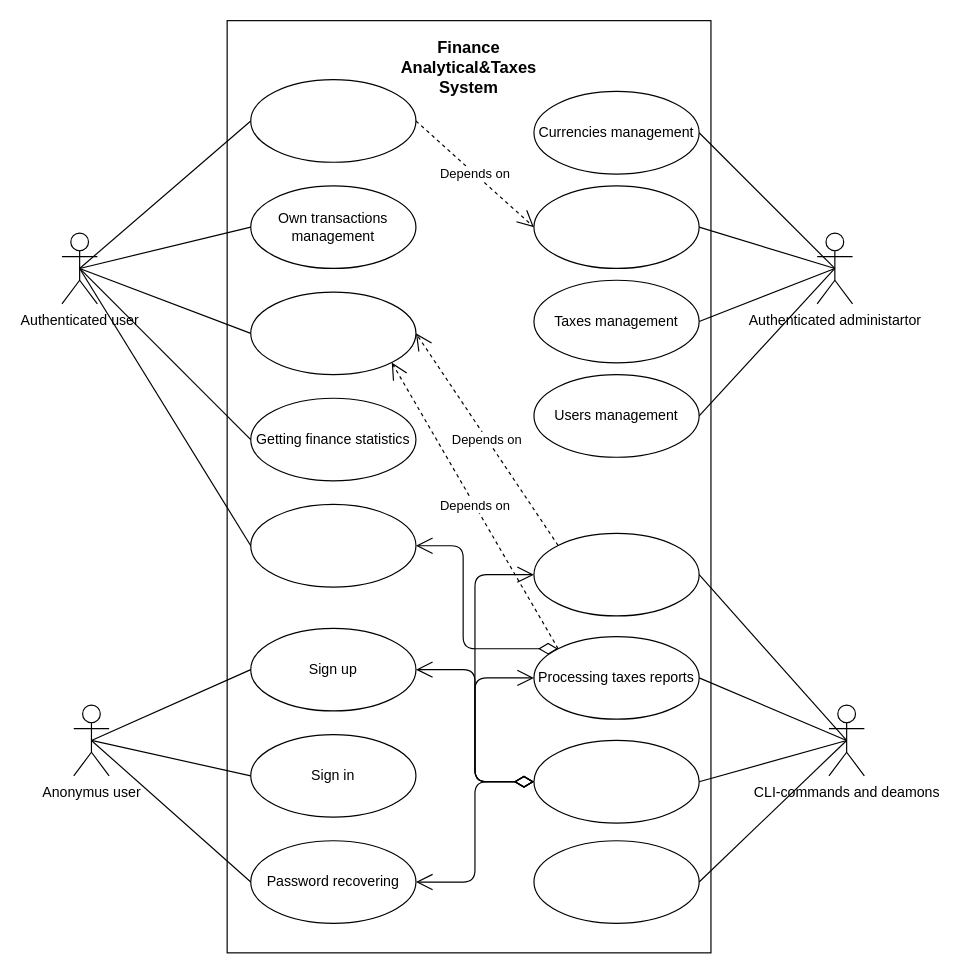
This 959x973 diagram has some shape labels left out. The centre of each missing label's shape, as x and y in pixels:
Admin profiles management: [616,881]
Generate and export tax report requesting: [333,545]
Income/outcome categories management: [616,226]
Mailing: [616,781]
Own income/outcome categories management: [333,120]
Processing finance statistics reports: [616,574]
Profile and mailing management: [333,333]
